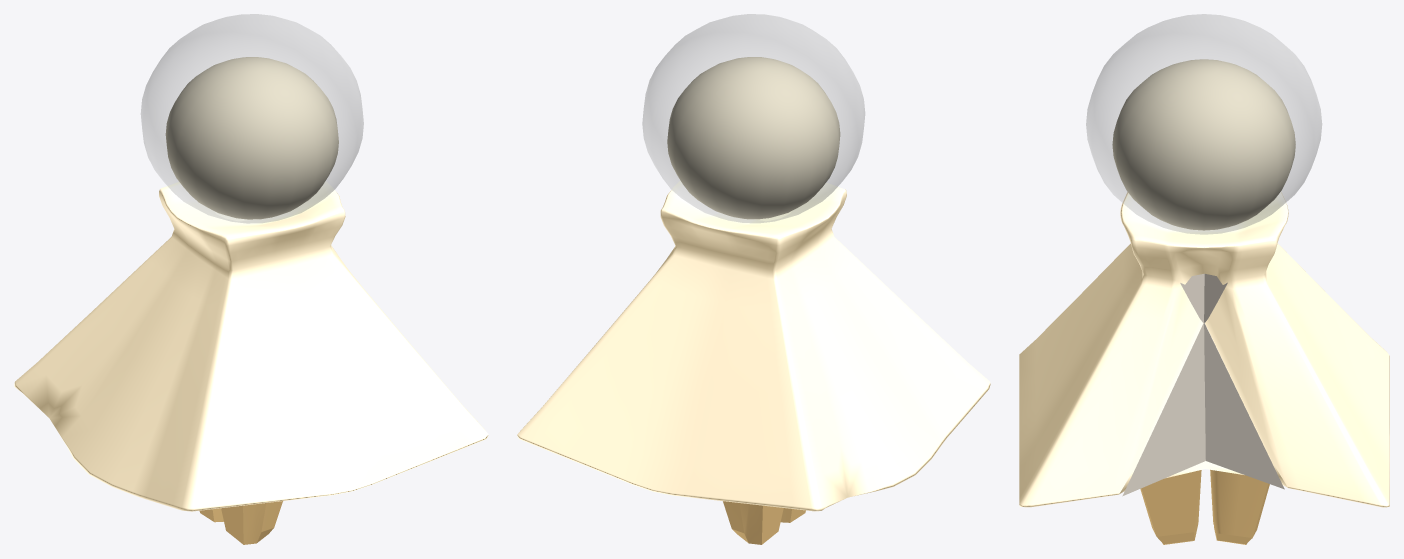
The model's file is people.fbx.
3 renders of one model, left to right at view 1: azimuth 30°, elevation 25°; view 2: azimuth 150°, elevation 25°; view 3: azimuth 270°, elevation 25°, orthographic. The views are drawn at different scales.
Parts seen in each view (by area): view 1: polySurface33, pSphere1, pSphere2, polySurface25; view 2: polySurface33, pSphere1, pSphere2, polySurface12; view 3: polySurface33, pSphere1, pSphere2, polySurface32, polySurface29, polySurface25, polySurface12, polySurface31, polySurface30.
Part boxes in pixels (x1=…): polySurface33: x1=14, y1=181, x2=488, y2=511; pSphere1: x1=141, y1=14, x2=363, y2=223; pSphere2: x1=165, y1=57, x2=338, y2=219; polySurface25: x1=221, y1=501, x2=282, y2=544; polySurface33: x1=517, y1=181, x2=990, y2=511; pSphere1: x1=642, y1=14, x2=864, y2=222; pSphere2: x1=667, y1=57, x2=840, y2=219; polySurface12: x1=723, y1=501, x2=783, y2=544; polySurface33: x1=1019, y1=192, x2=1389, y2=507; pSphere1: x1=1086, y1=14, x2=1321, y2=234; pSphere2: x1=1112, y1=59, x2=1295, y2=230; polySurface32: x1=1122, y1=323, x2=1205, y2=496; polySurface29: x1=1204, y1=322, x2=1284, y2=489; polySurface25: x1=1140, y1=470, x2=1201, y2=544; polySurface12: x1=1210, y1=470, x2=1269, y2=544; polySurface31: x1=1180, y1=273, x2=1204, y2=322; polySurface30: x1=1204, y1=274, x2=1227, y2=322.
Size of the model in its own units: 3.12 by 4.76 by 3.03.
